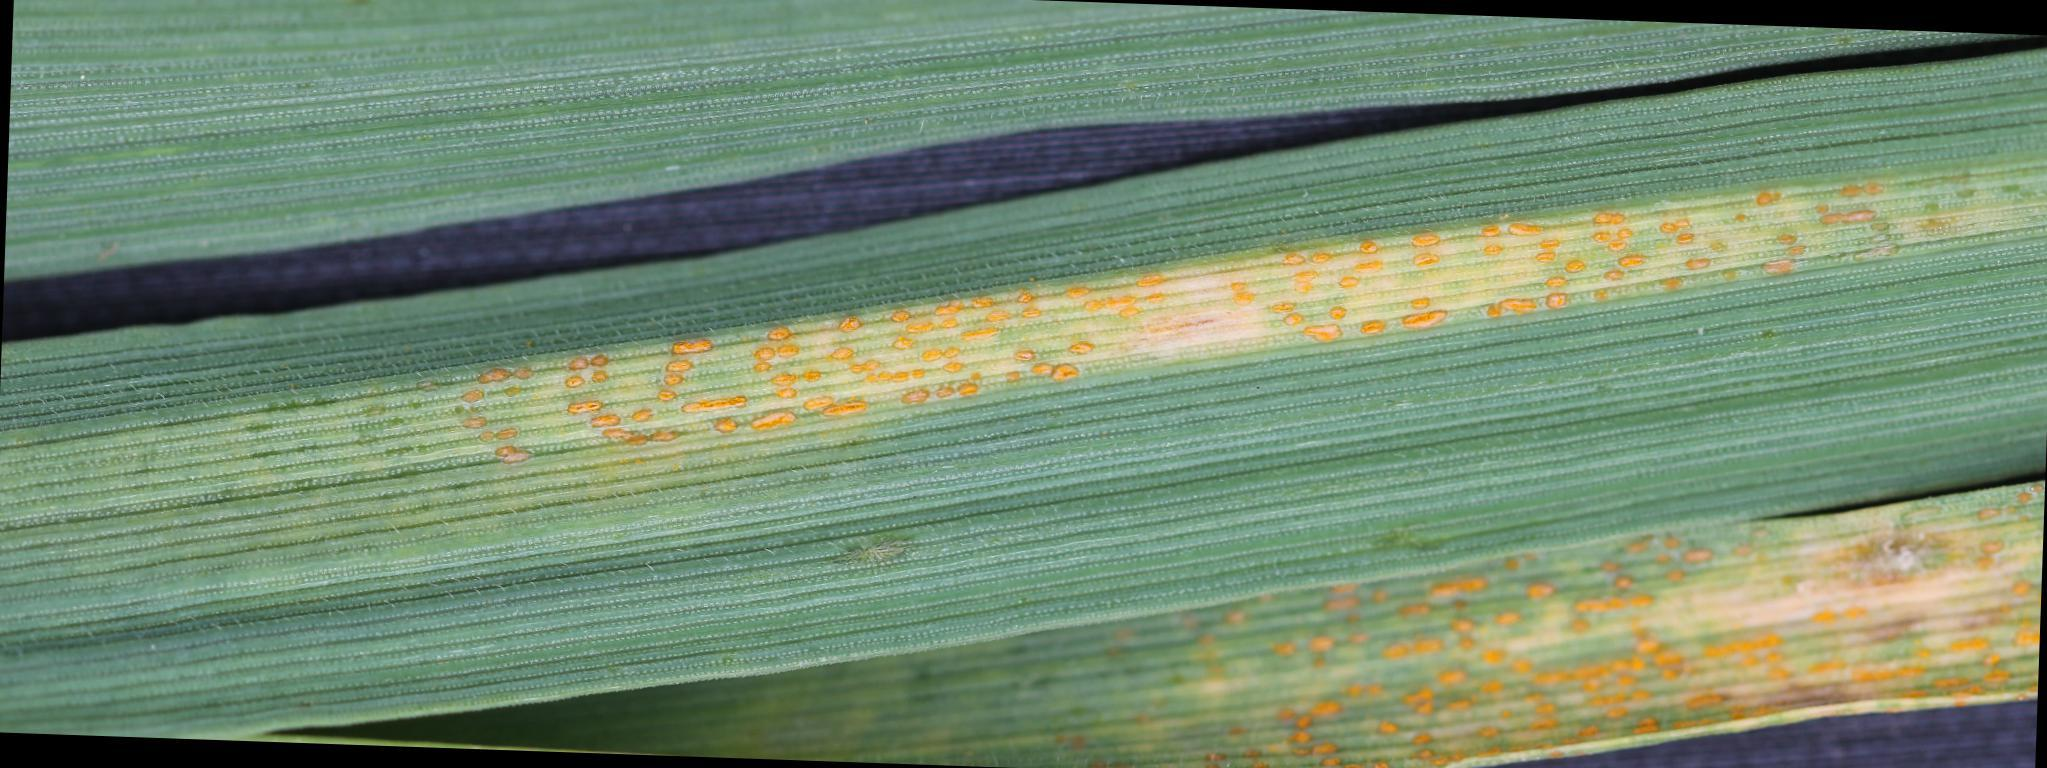Wheat: (428, 149, 1971, 496)
